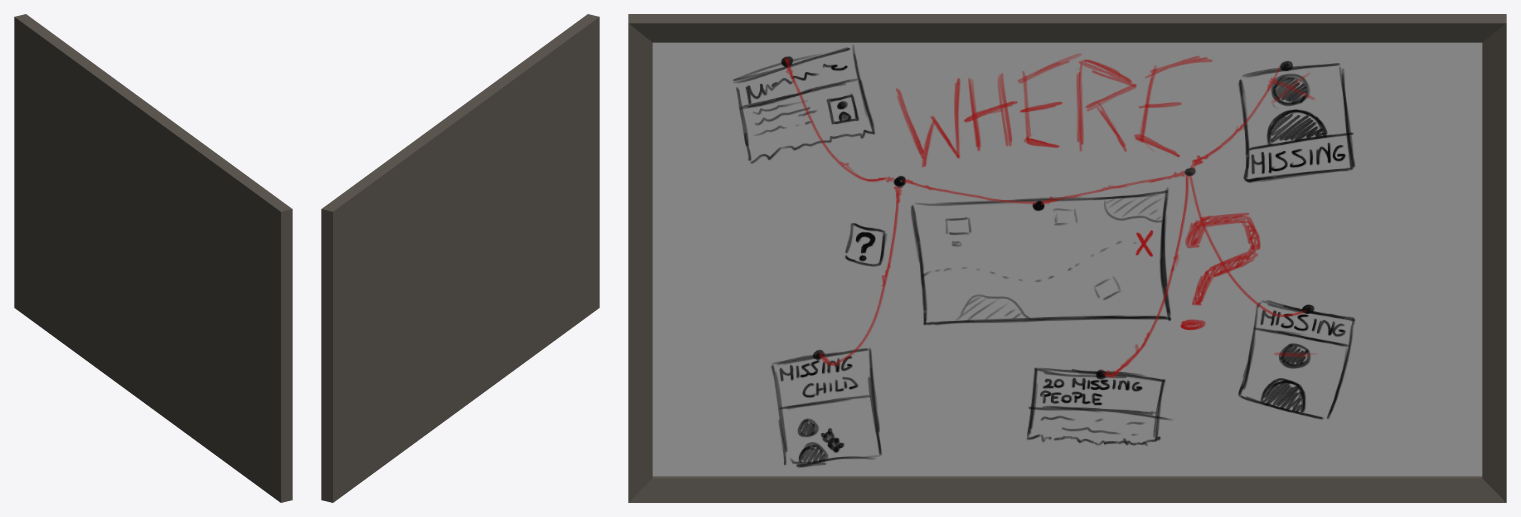
File: PinBoard.glb
3 views of the same model, side by side, from view 1: azimuth 30°, elevation 25°; view 2: azimuth 150°, elevation 25°; view 3: azimuth 270°, elevation 25° (orthographic). The views are drawn at different scales.
Visible parts, largest first — view 1: Cube; view 2: Cube; view 3: pinboard, Cube.
Part boxes in pixels (x1,y1,x2,y2): Cube: (14, 14, 292, 502); Cube: (321, 14, 599, 502); pinboard: (652, 42, 1482, 476); Cube: (628, 14, 1506, 502).
Bounding box in the file's own units: 0.0207 × 0.4954 × 0.8219.
2 materials, 1 textured.
